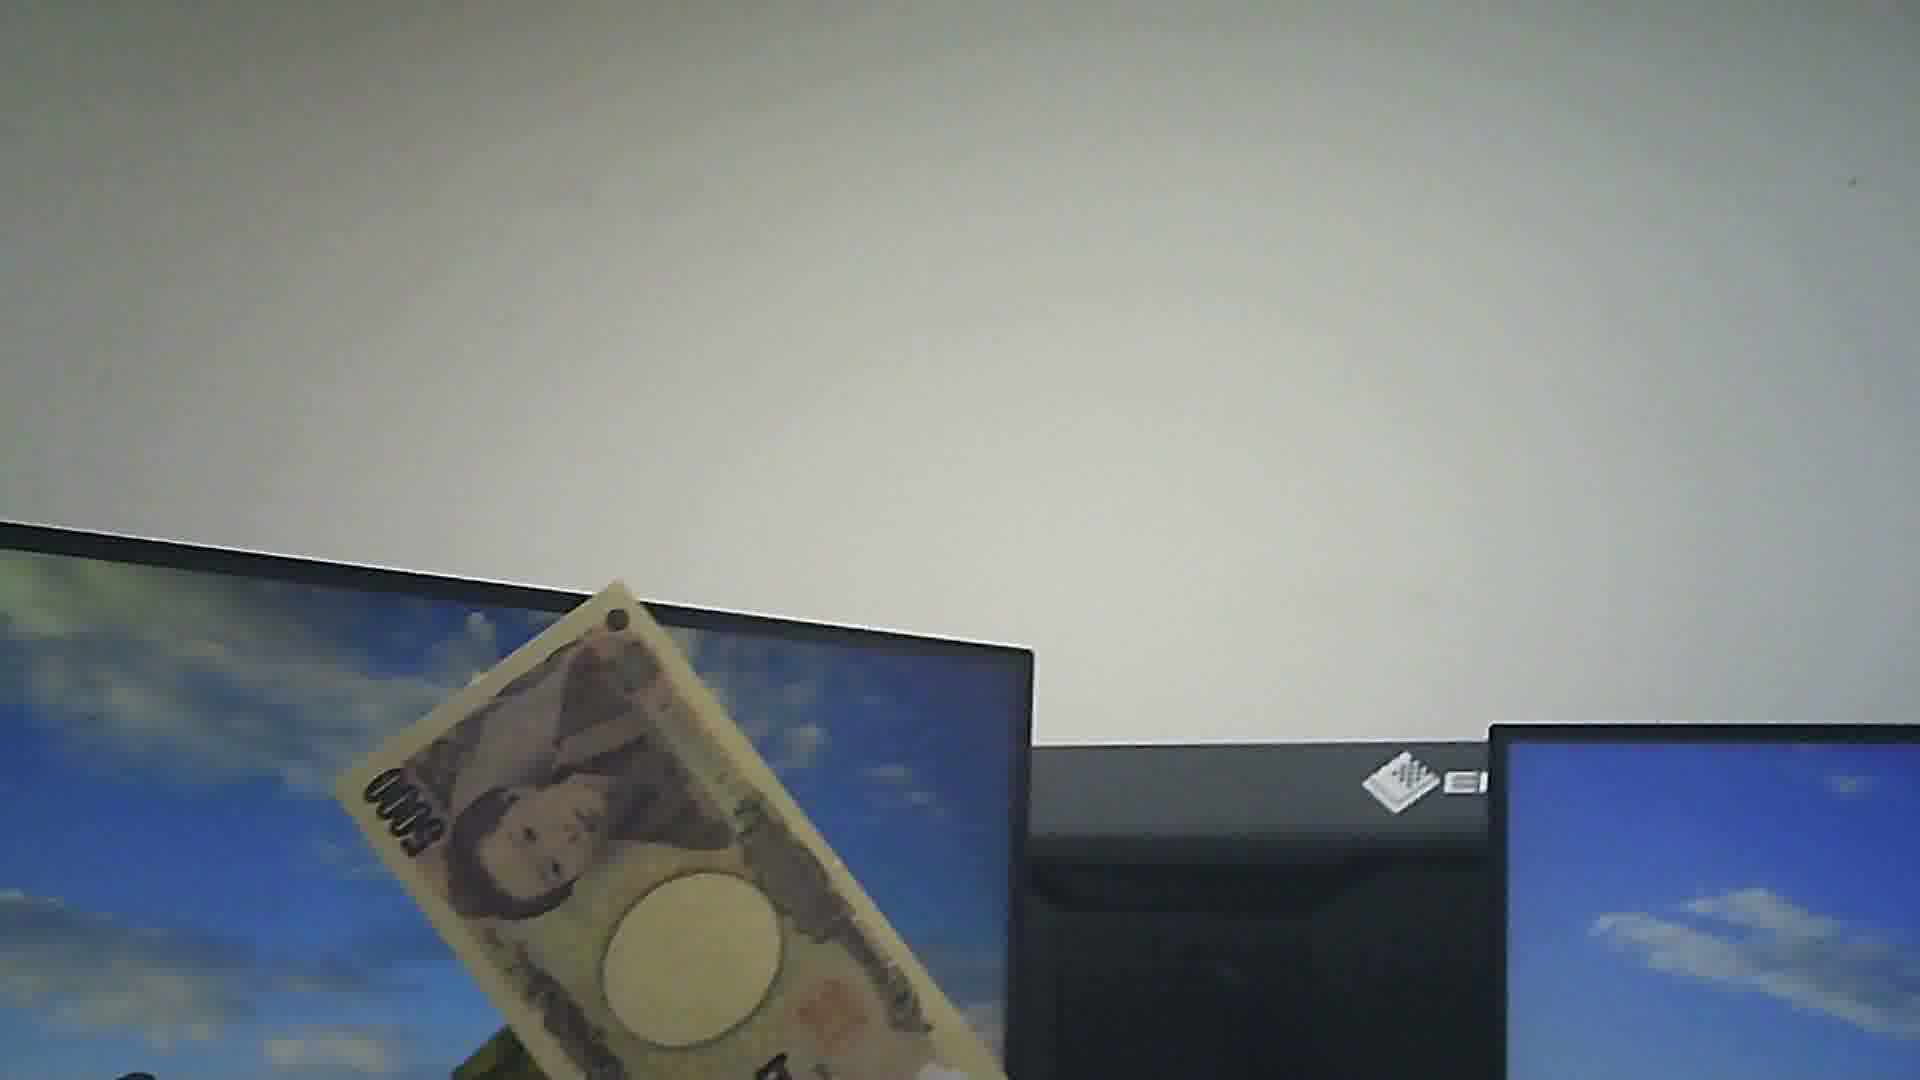5,000 Yen: (342, 580, 988, 1079)
